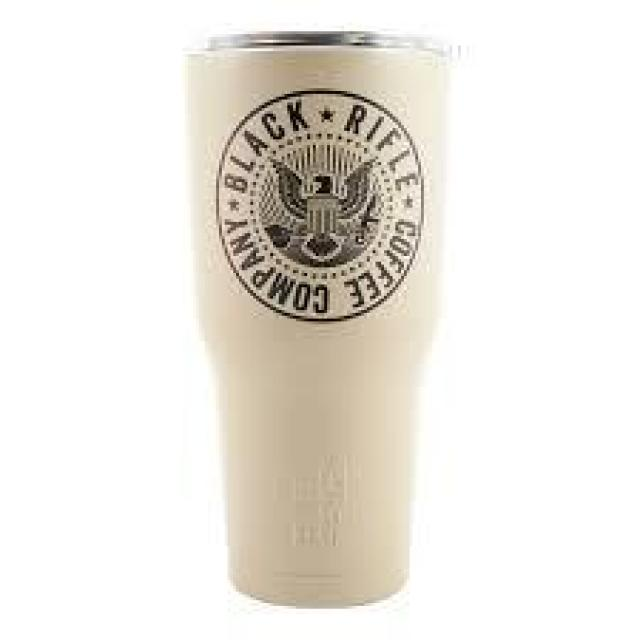bottle: (178, 22, 468, 612)
